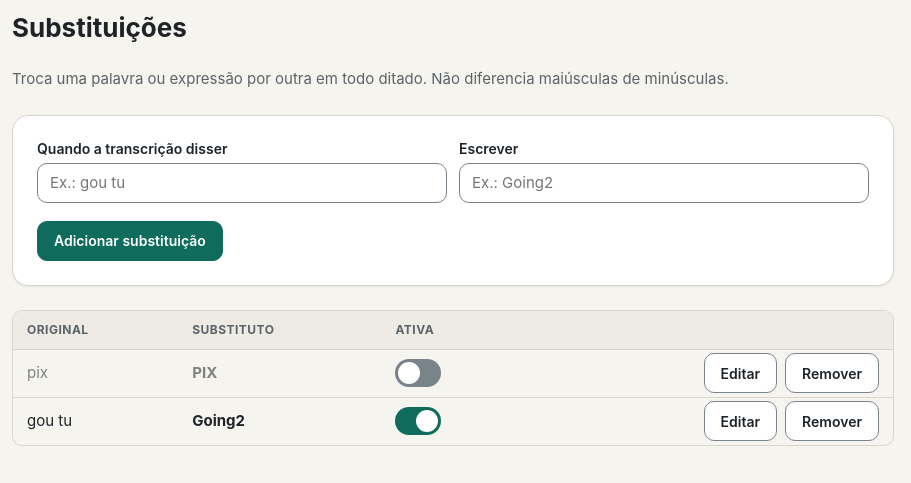
it: Substituições (F-08) › original vazio é recusado com aviso e nada é salvo
Clear the field labelled "Quando a transcrição disser" at (242, 183), box [37, 163, 447, 203]
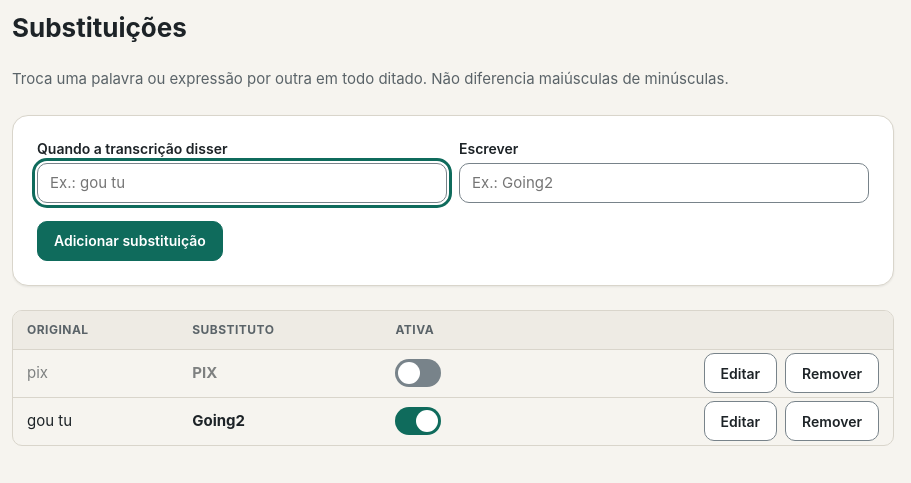
Type "PIX2" into the field labelled "Escrever".
click(664, 183); type("PIX2")  # box [459, 163, 869, 203]
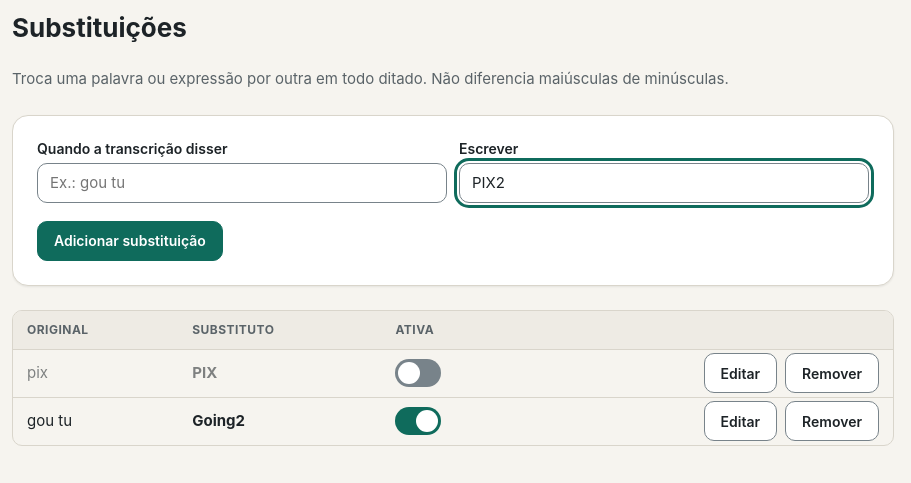
Click the button "Adicionar substituição".
click(130, 241)  # box [37, 221, 223, 261]
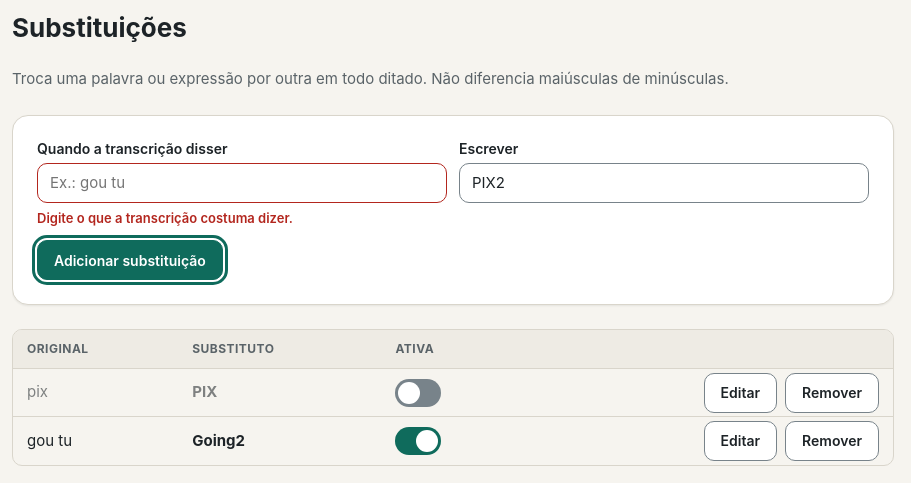
expect the number of rows is 3: met, box [13, 330, 893, 369]; [13, 369, 893, 417]; [13, 417, 893, 465]
expect the text "Digite o que a transcrição costuma dizer." is shown: met, box [37, 210, 293, 226]
